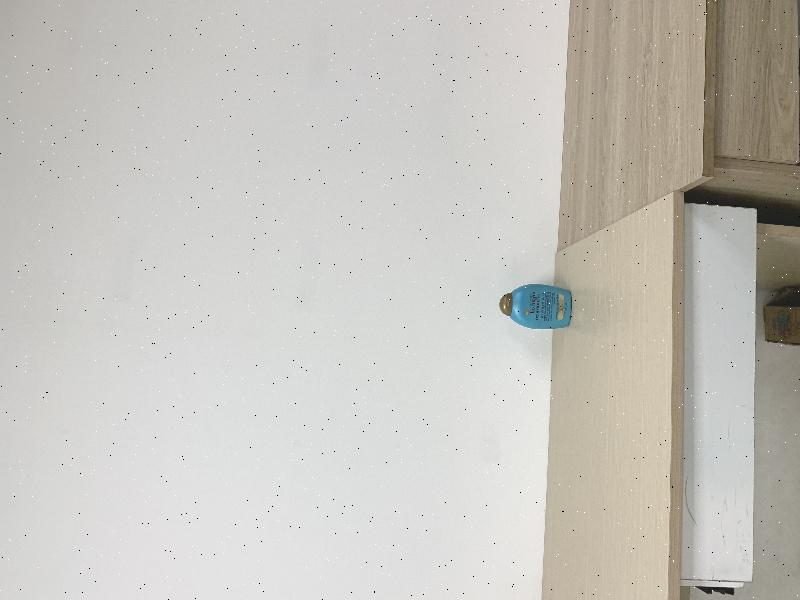ArganOilOfMorocco_Conditioner: (499, 284, 571, 330)
